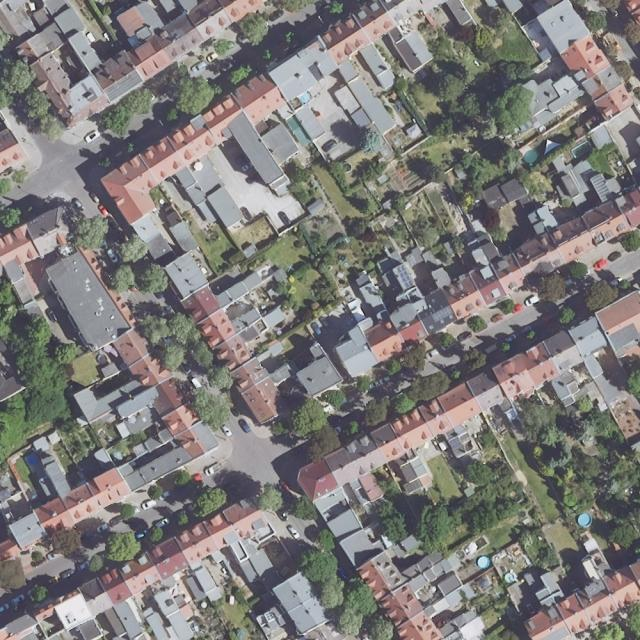PV: (104, 70, 143, 101), (590, 173, 612, 202), (395, 264, 414, 288), (431, 305, 454, 323), (449, 437, 463, 449)
ST: (264, 611, 276, 622)
